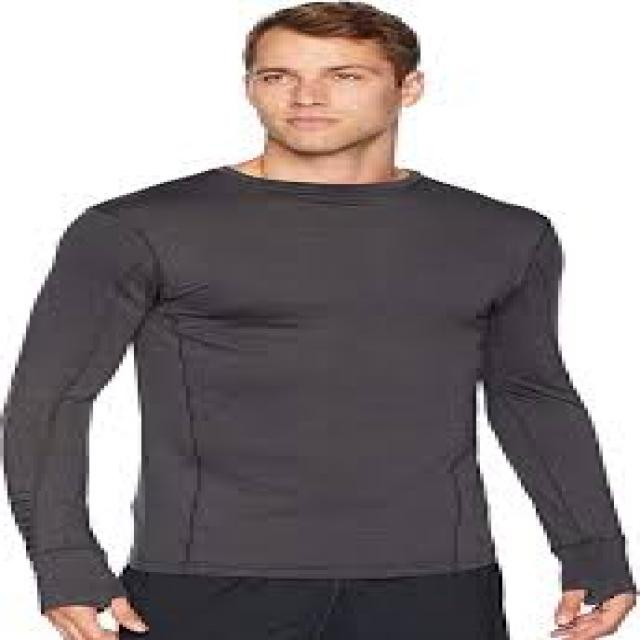plain: (0, 163, 633, 579)
